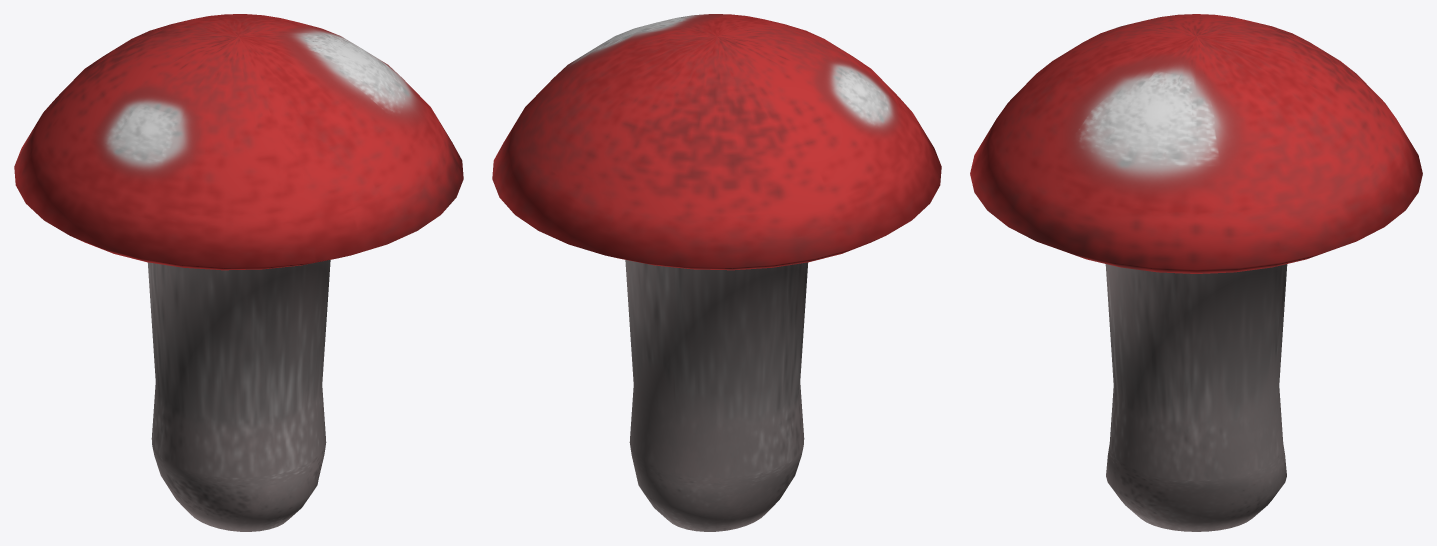
Rendered from LampLight_Mushroom_3.FBX.
3 views of the same model, side by side, from view 1: azimuth 30°, elevation 25°; view 2: azimuth 150°, elevation 25°; view 3: azimuth 270°, elevation 25° (orthographic).
Parts seen in each view (by area): view 1: Mushroom_2; view 2: Mushroom_2; view 3: Mushroom_2.
Boxes of the visible parts, bbox=[...] form: Mushroom_2: bbox=[14, 14, 463, 531]; Mushroom_2: bbox=[492, 14, 941, 531]; Mushroom_2: bbox=[970, 14, 1422, 531].
Bounding box in the file's own units: 44.33 × 51.15 × 44.33.
